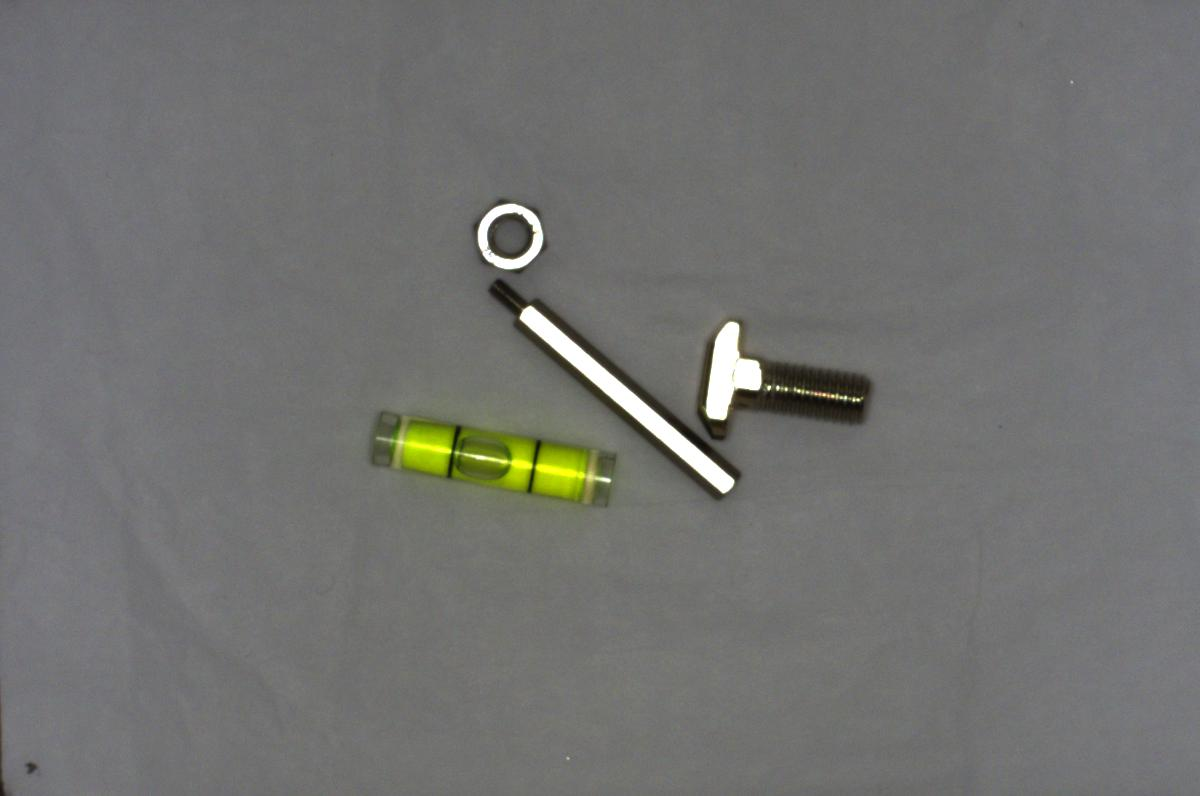Hexagon nut: (471, 190, 550, 276)
Hexagonal steel column: (485, 272, 745, 500)
Horizontal bubble: (367, 405, 619, 513)
T-shaped screw: (693, 312, 887, 442)
